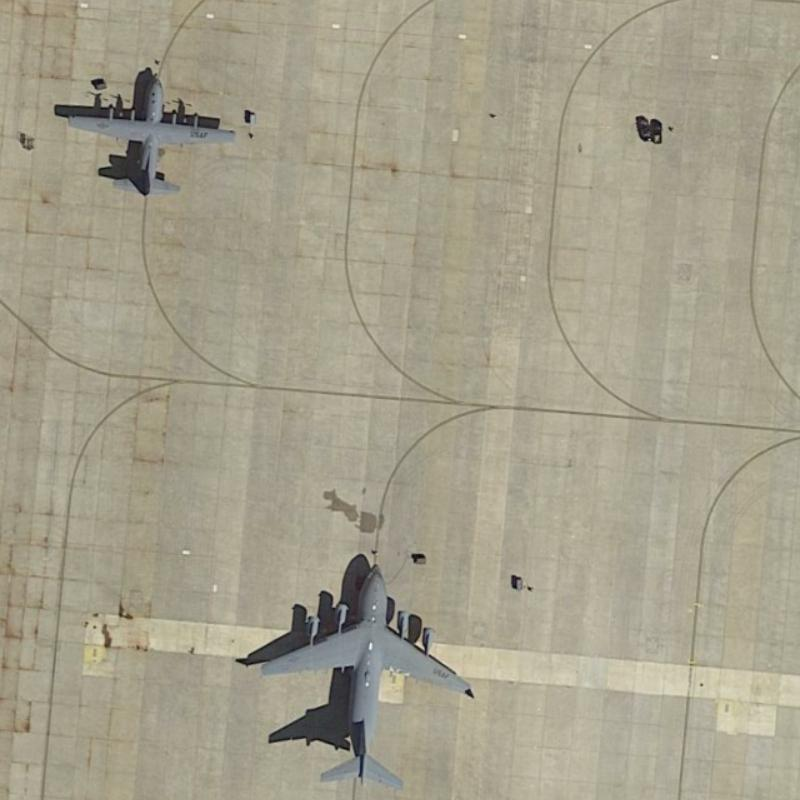A2: (58, 72, 242, 199)
A3: (252, 555, 475, 790)
